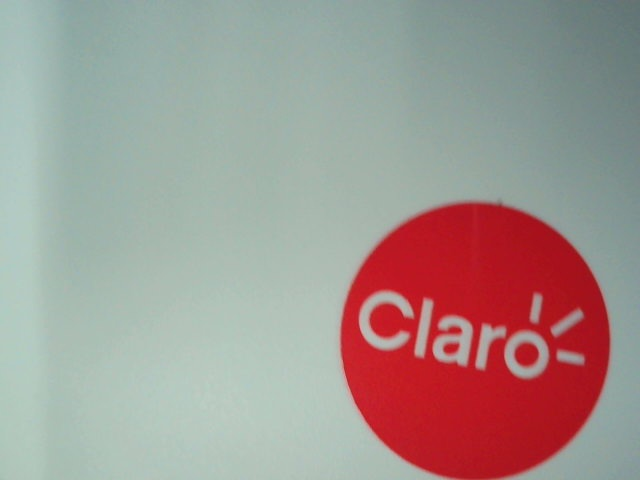BC_ClaorRed: (326, 191, 622, 476)
